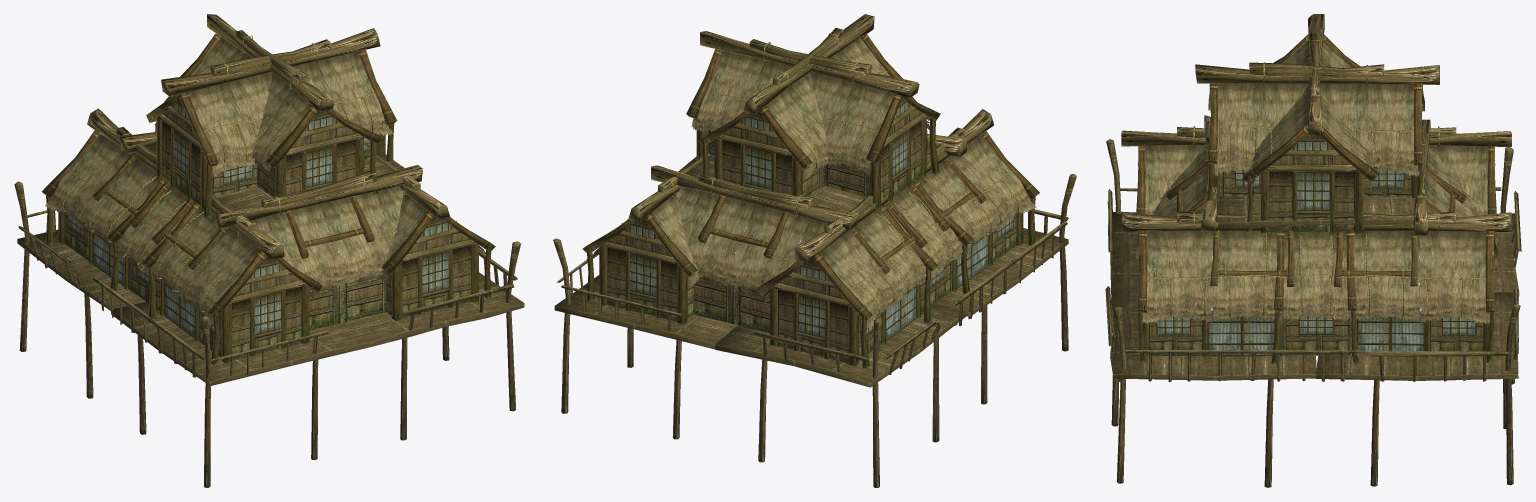
Rendered from S_Build_Cbcl021.FBX.
The picture shows the model from 3 angles, left to right: view 1: azimuth 30°, elevation 25°; view 2: azimuth 150°, elevation 25°; view 3: azimuth 270°, elevation 25°; orthographic projection. The views are drawn at different scales.
Visible parts, largest first — view 1: S_Build_Cbcl021; view 2: S_Build_Cbcl021; view 3: S_Build_Cbcl021.
Boxes of the visible parts, x1,y1,x2,y2 form: S_Build_Cbcl021: (14, 14, 524, 487); S_Build_Cbcl021: (553, 14, 1076, 487); S_Build_Cbcl021: (1105, 14, 1521, 487).
Size of the model in its own units: 1216 by 1275 by 1165.
